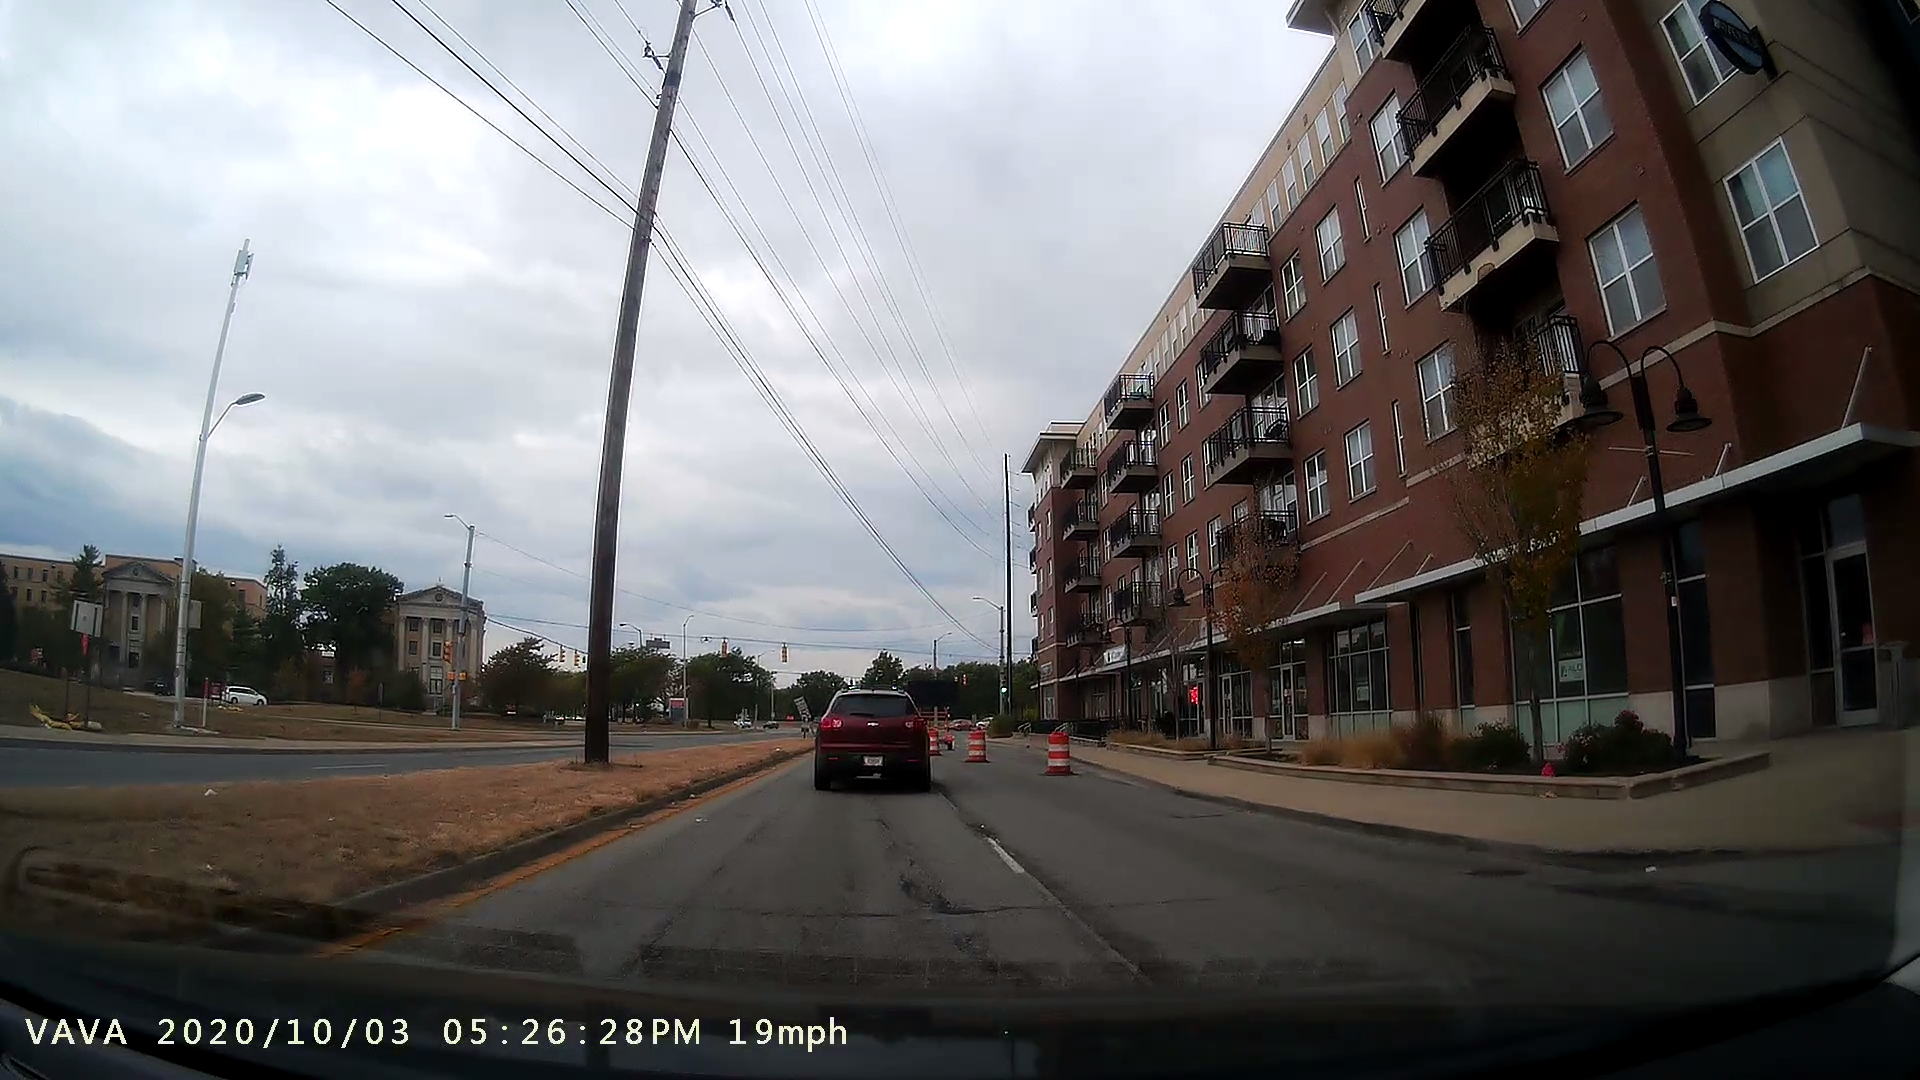const_barrel: (1038, 720, 1080, 787)
